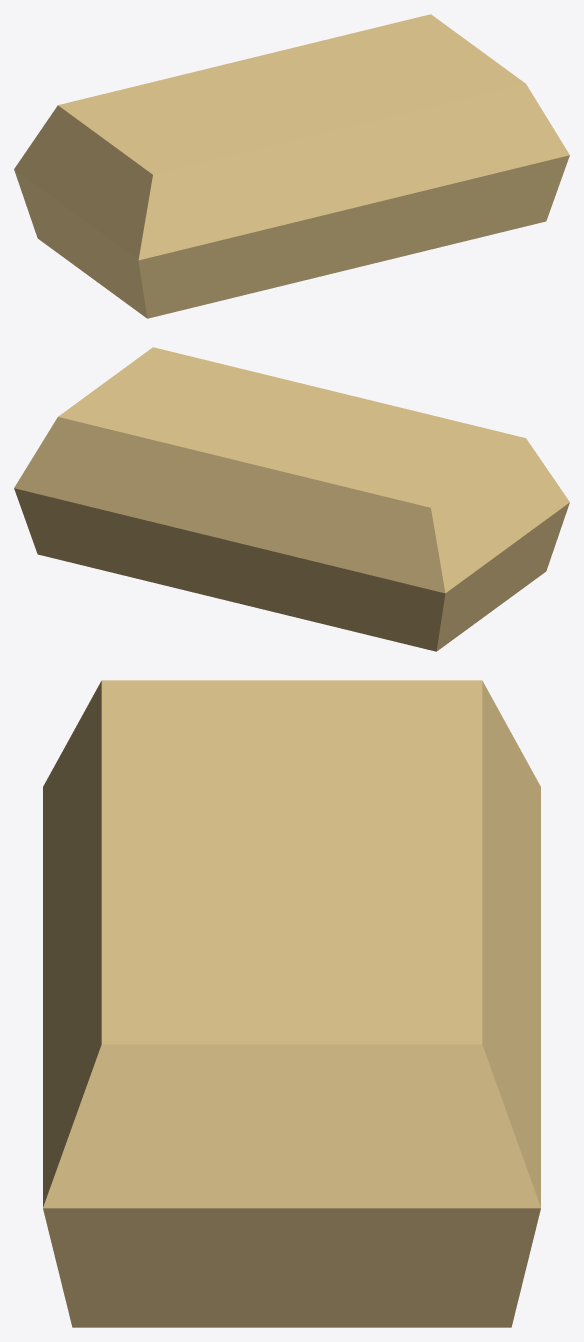
File: EggCase.fbx
3 views of the same model, one above another, from view 1: azimuth 30°, elevation 25°; view 2: azimuth 150°, elevation 25°; view 3: azimuth 270°, elevation 25° (orthographic). The views are drawn at different scales.
Parts seen in each view (by area): view 1: Cube; view 2: Cube; view 3: Cube.
Part boxes in pixels (x1,y1,x2,y2): Cube: (14,14,569,318); Cube: (14,347,569,651); Cube: (43,680,540,1327).
Size of the model in its own units: 400 by 120 by 200.
